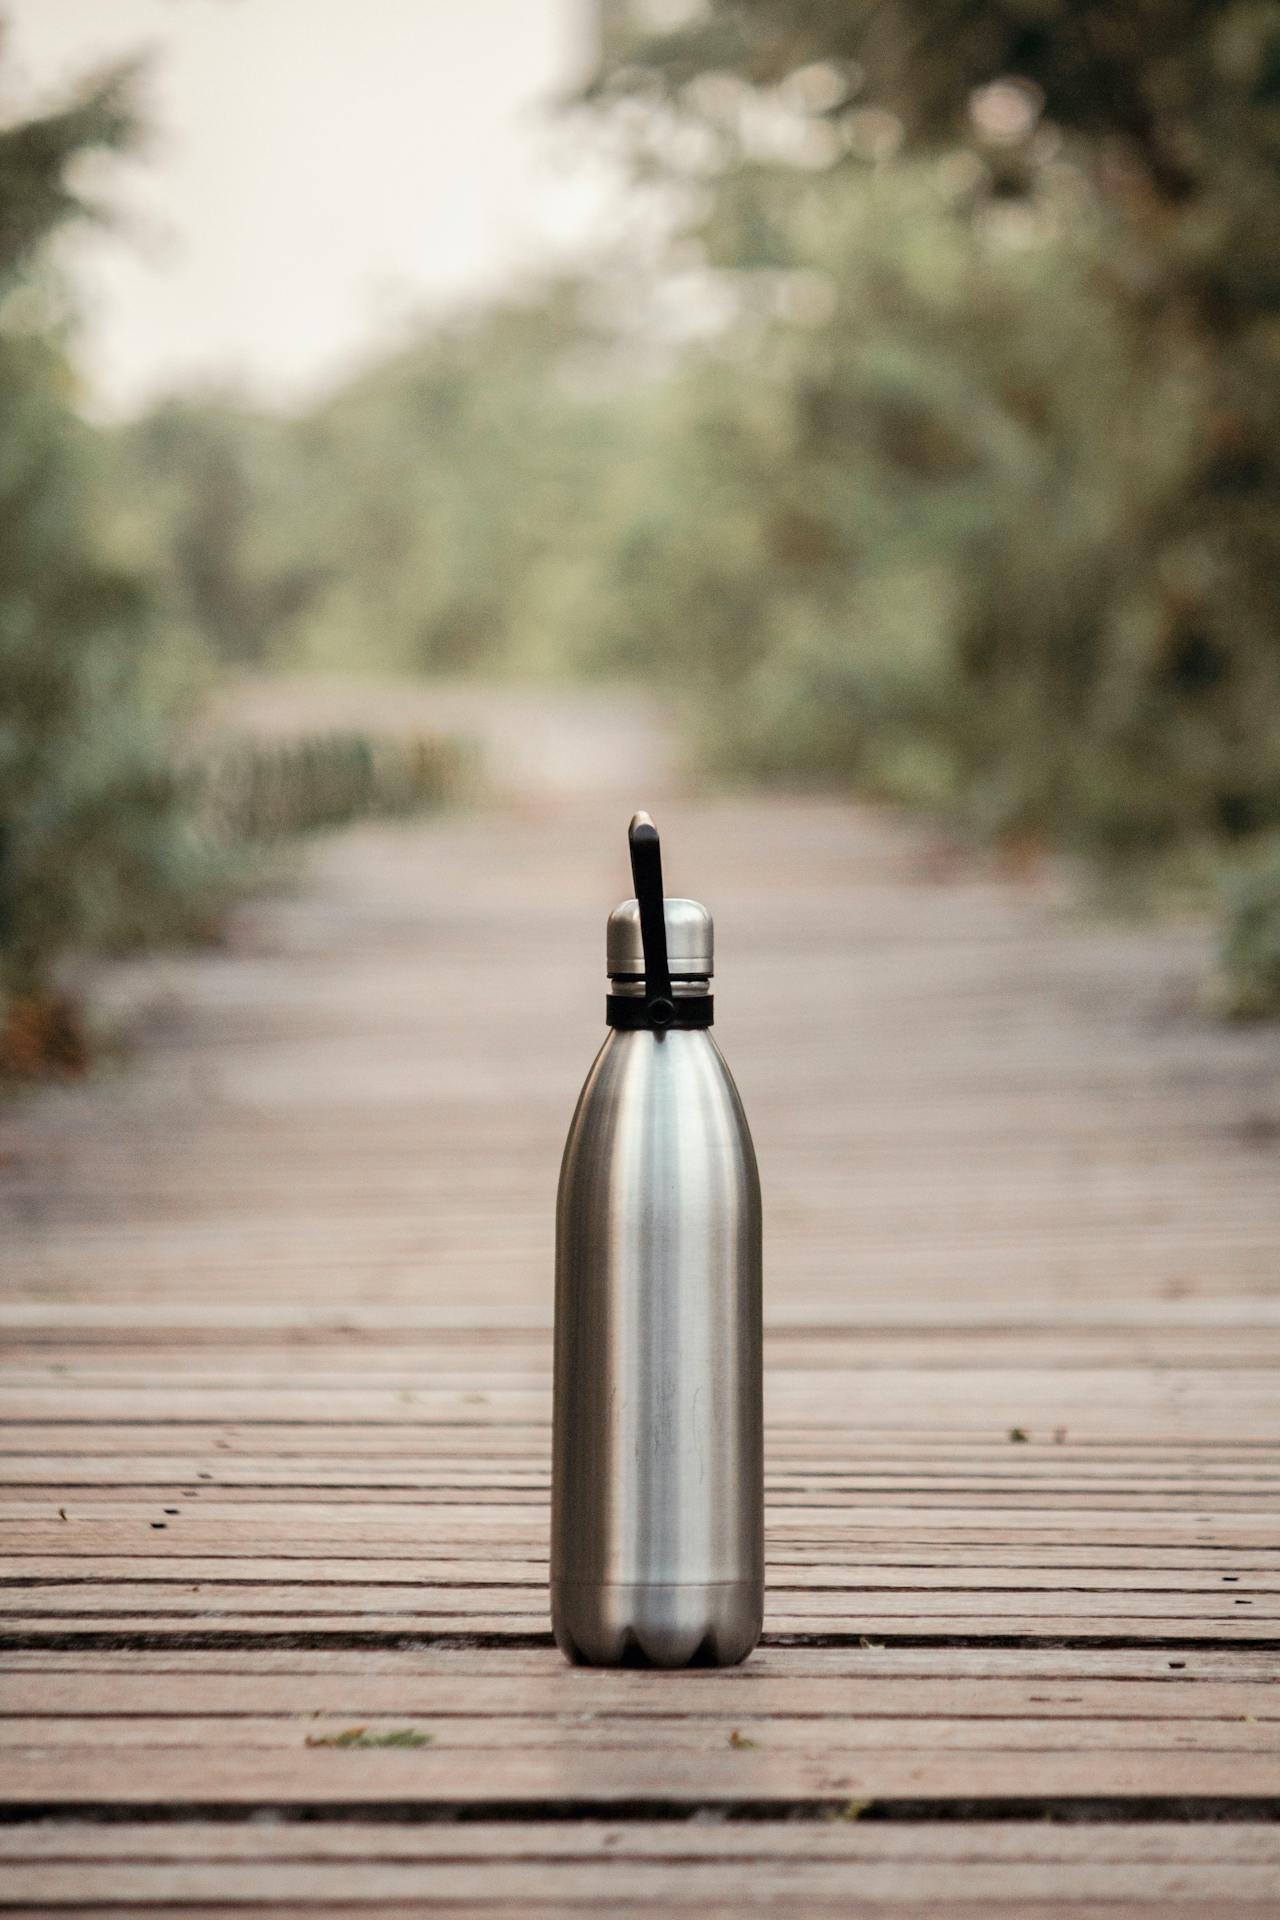bottle: (503, 749, 816, 1676)
